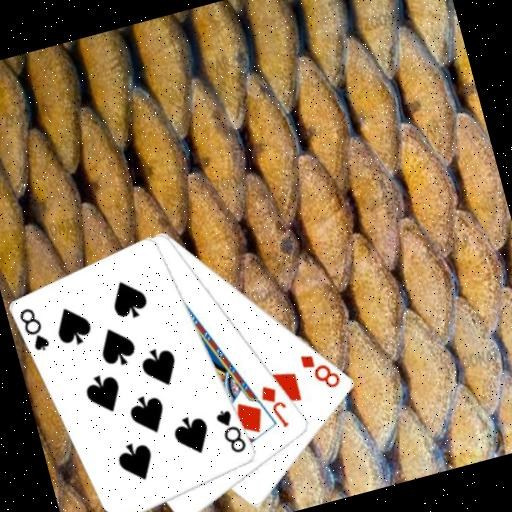8D: (295, 343, 344, 396)
8S: (211, 403, 250, 458), (15, 302, 54, 357)
JD: (255, 378, 294, 434)
